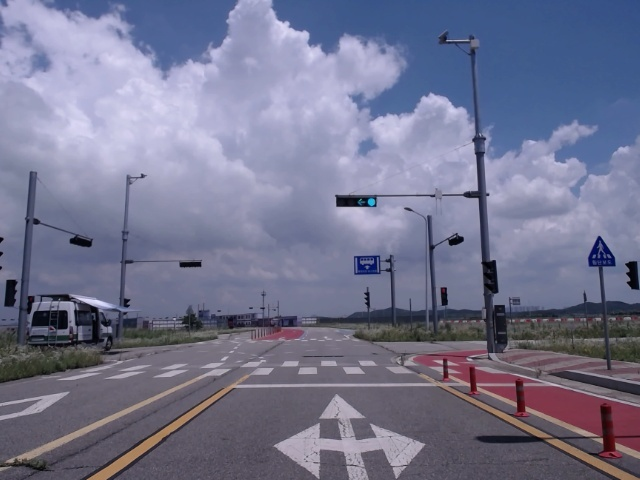all_green_4: (340, 193, 377, 211)
